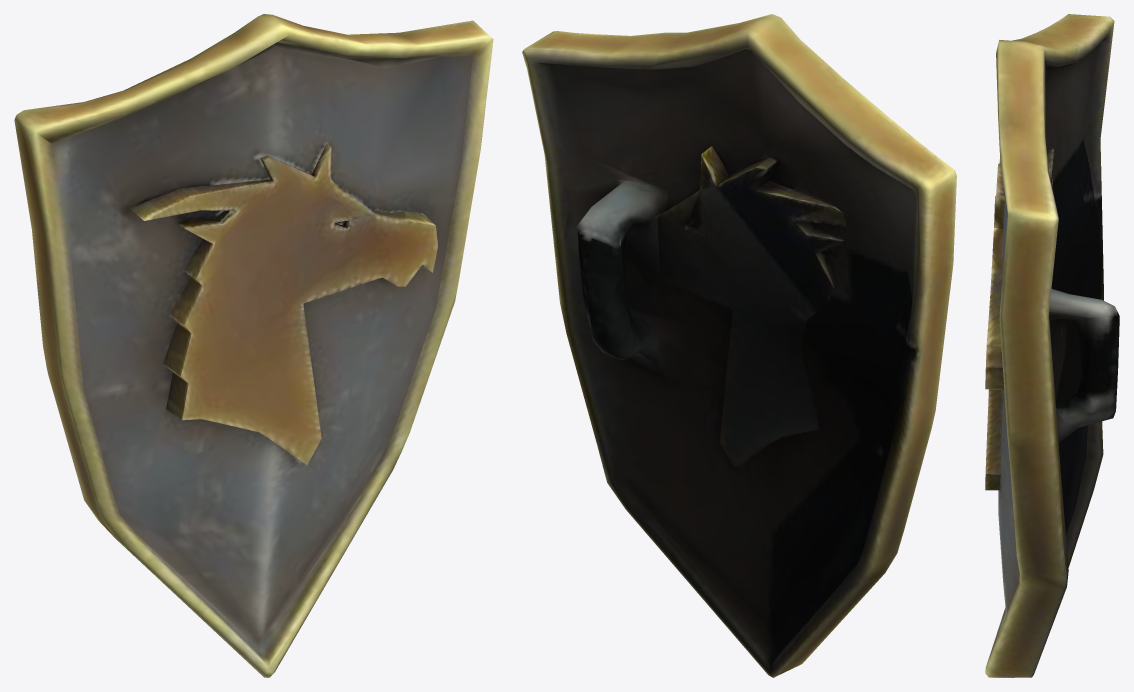
The model's file is Shield_Metal_2.glb.
The picture shows the model from 3 angles, left to right: view 1: azimuth 30°, elevation 25°; view 2: azimuth 150°, elevation 25°; view 3: azimuth 270°, elevation 25°; orthographic projection.
Visible parts, largest first — view 1: shield_low.001; view 2: shield_low.001; view 3: shield_low.001.
Boxes of the visible parts, x1,y1,x2,y2 form: shield_low.001: (14, 14, 493, 677); shield_low.001: (522, 14, 956, 677); shield_low.001: (985, 14, 1119, 677).
Size of the model in its own units: 0.5652 by 0.7931 by 0.1502.
1 material, 1 textured.
